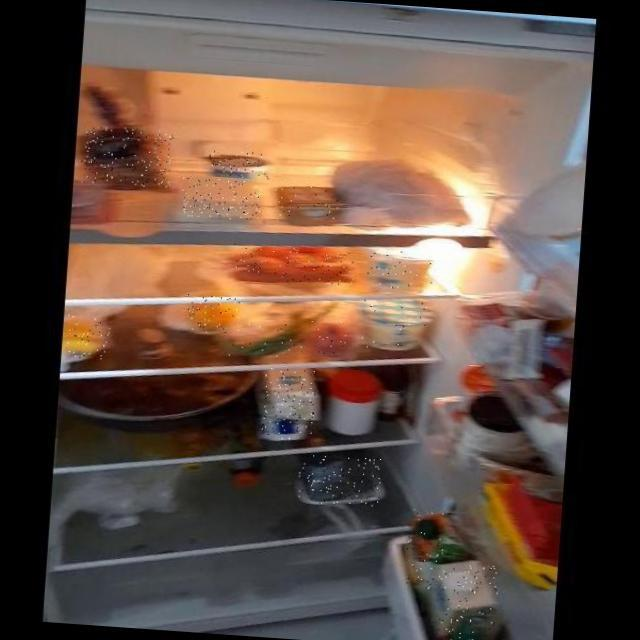Brocoli: (297, 452, 382, 508)
Limón: (185, 294, 239, 335), (64, 313, 111, 360)
Mantequilla: (274, 183, 344, 220)
Queso: (180, 176, 261, 221)
Yogur: (355, 297, 436, 352), (364, 246, 436, 291), (206, 149, 270, 179)
Zanahoria: (231, 244, 357, 286)
bread: (78, 124, 174, 188)
green chilies: (226, 318, 304, 361)
juice: (404, 506, 450, 591)
milk: (435, 557, 499, 640), (260, 368, 317, 442)
tomato paste: (307, 319, 353, 355)
